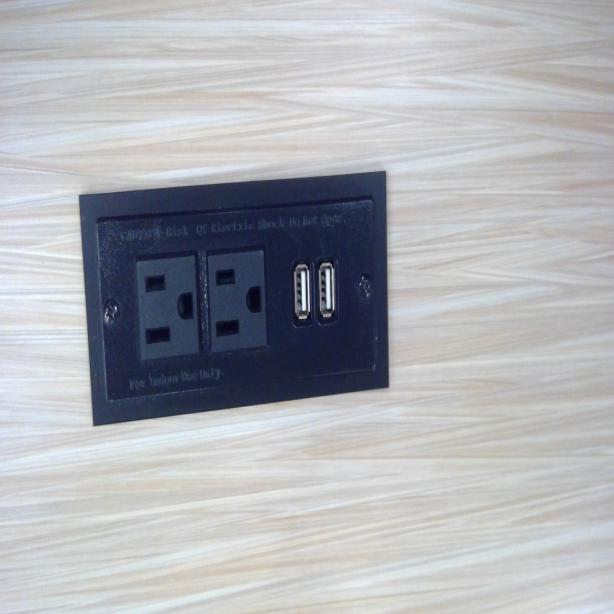typeb: (211, 249, 267, 345), (142, 262, 199, 355)
